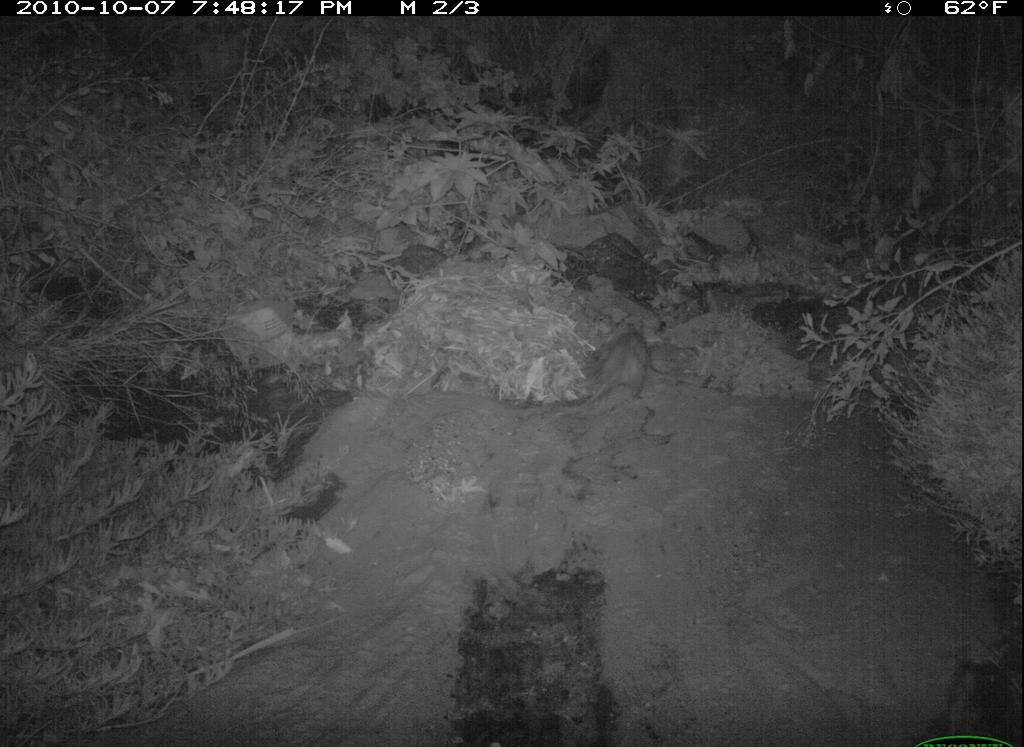opossum: (553, 305, 685, 425)
